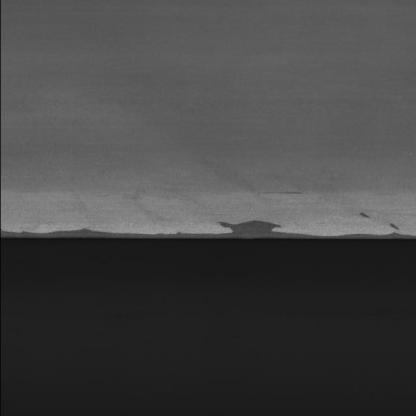water_spot: (0, 205, 415, 250)
